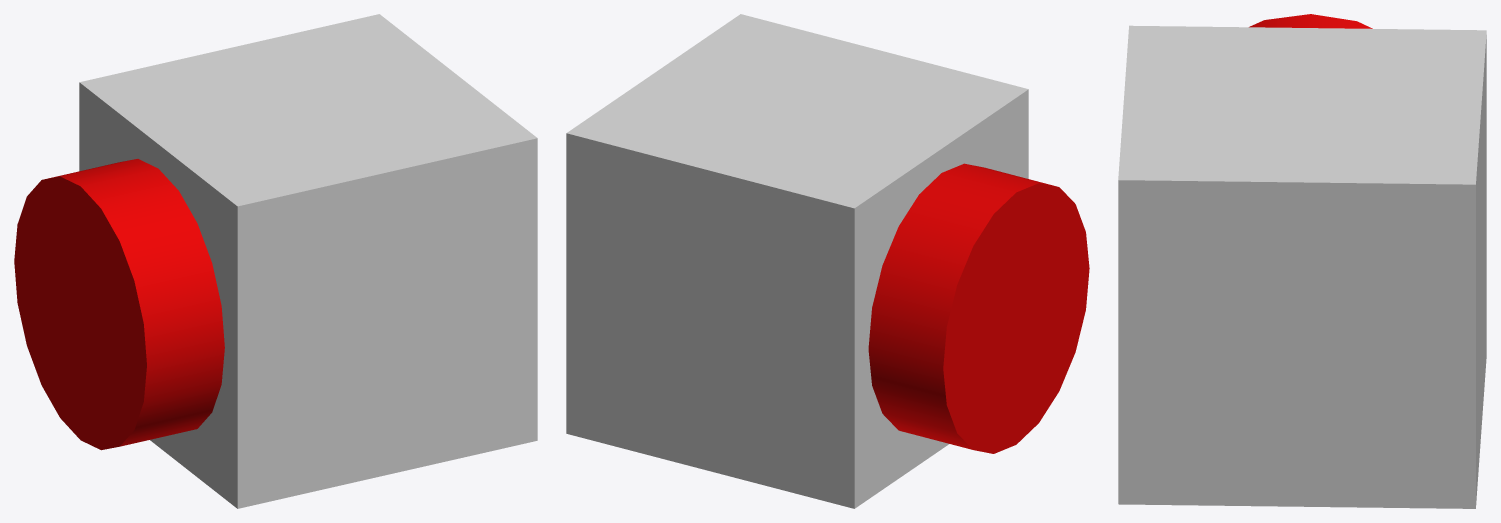
Rendered from camera.fbx.
3 views of the same model, side by side, from view 1: azimuth 30°, elevation 25°; view 2: azimuth 150°, elevation 25°; view 3: azimuth 270°, elevation 25° (orthographic). The views are drawn at different scales.
Visible parts, largest first — view 1: cube; view 2: cube; view 3: cube.
Boxes of the visible parts, x1,y1,x2,y2 form: cube: (14, 14, 537, 508); cube: (566, 14, 1089, 508); cube: (1118, 14, 1486, 508).
Size of the model in its own units: 1.29 by 0.9792 by 1.01.
